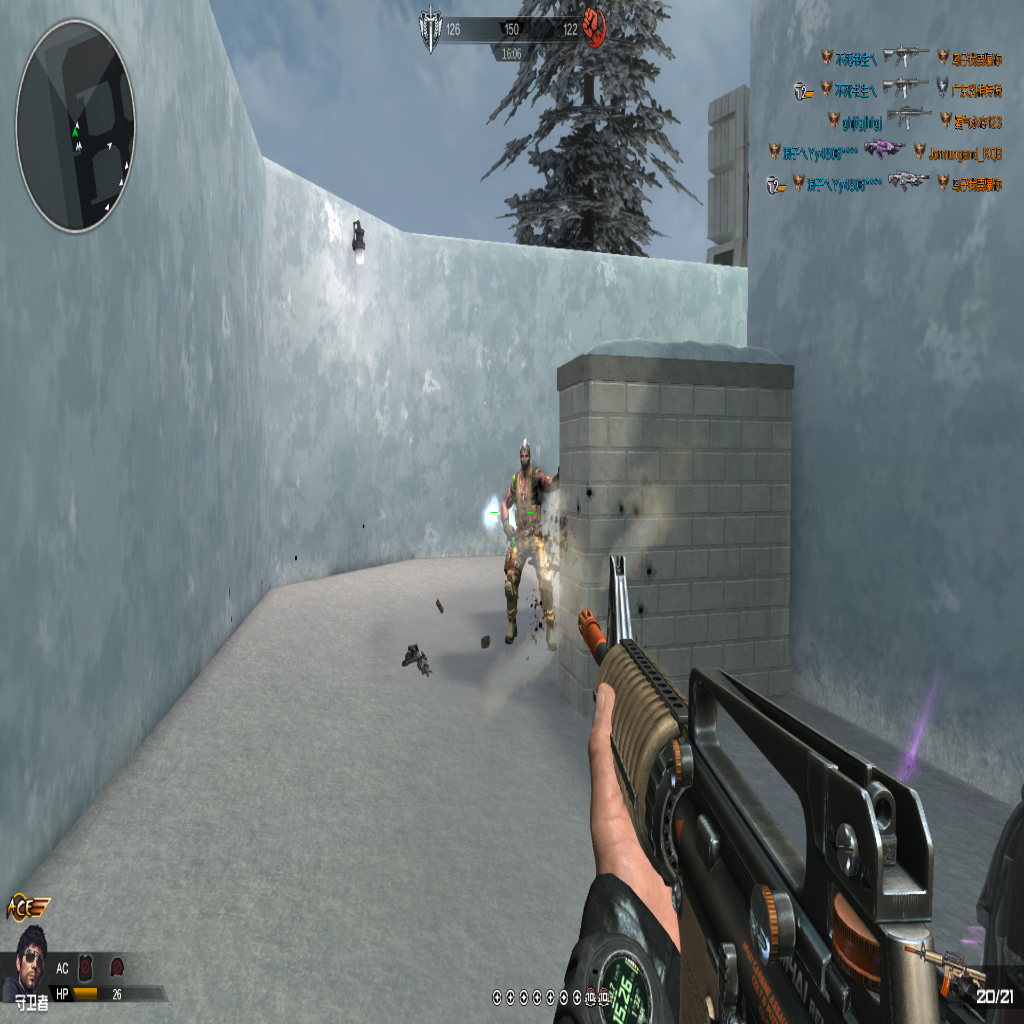tt: (499, 435, 562, 644)
